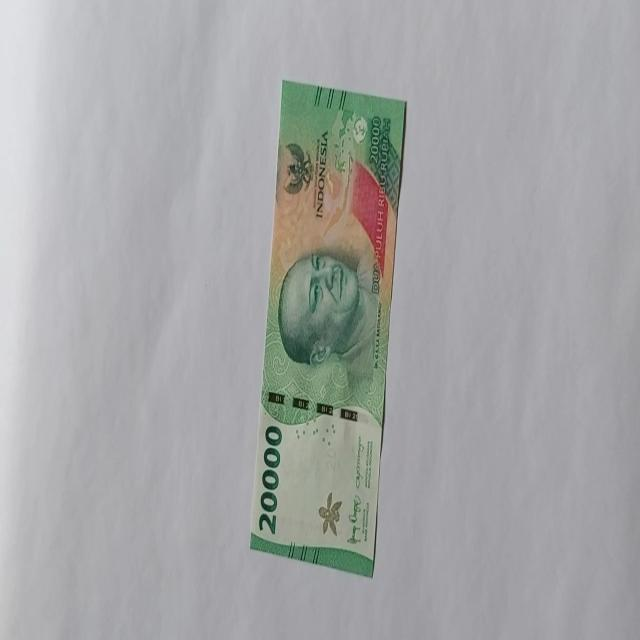dua puluh ribu rupiah: (248, 78, 408, 578), (276, 242, 376, 372)
